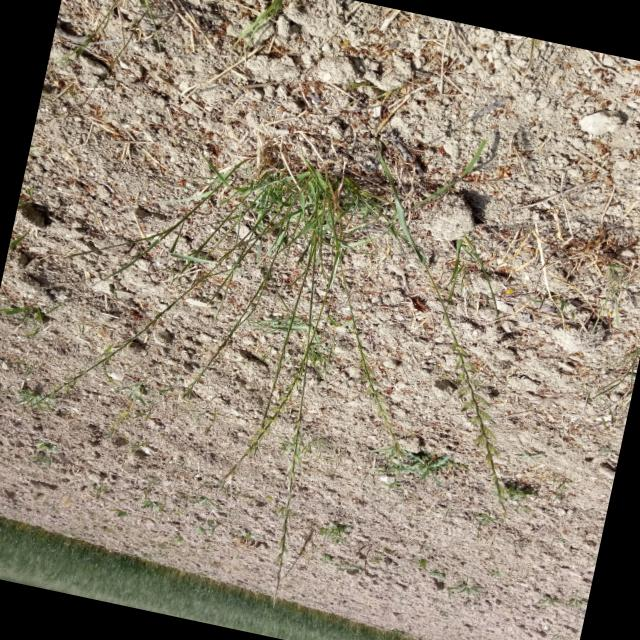Lolium: (422, 346, 542, 515), (215, 322, 322, 493), (24, 316, 138, 430), (253, 422, 320, 605), (333, 334, 428, 460)
